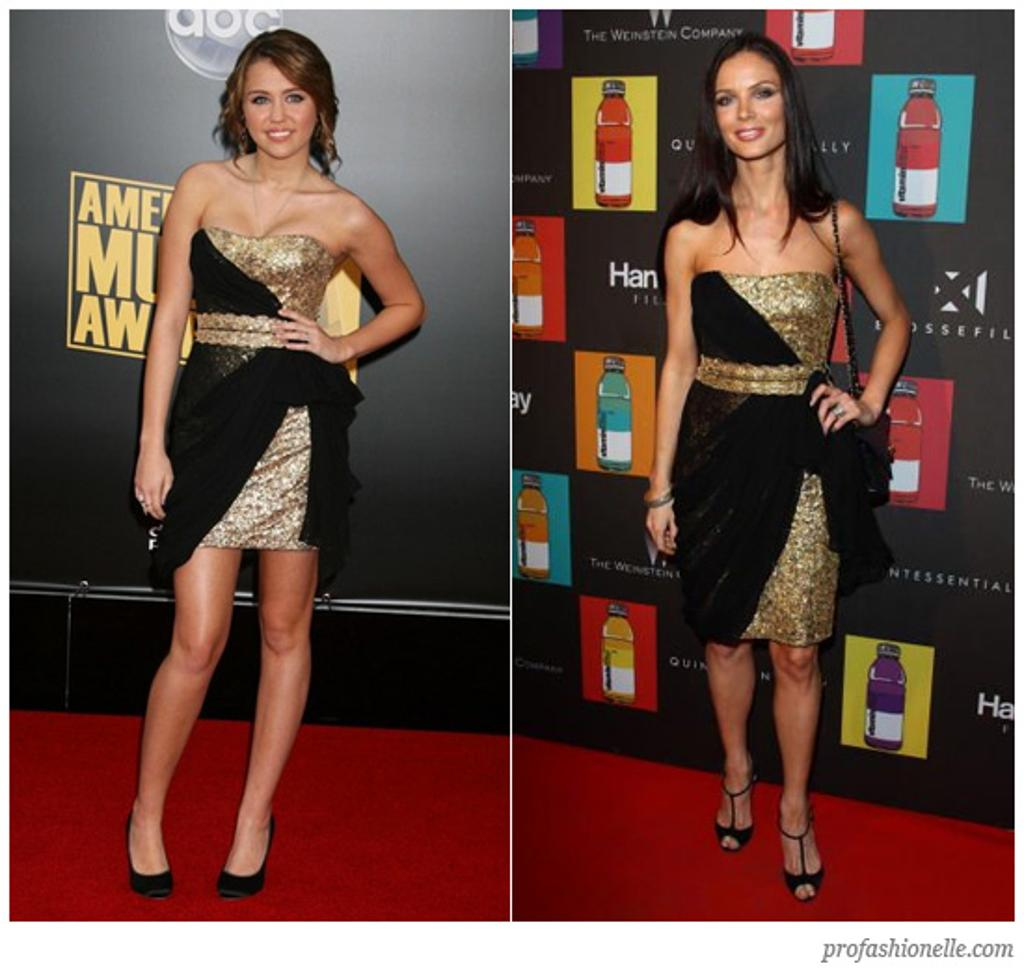face: (714, 52, 790, 160), (244, 54, 320, 158)
